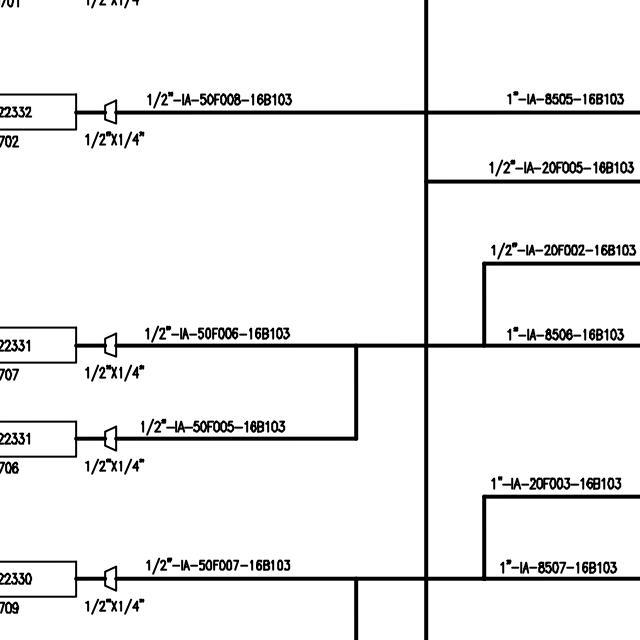SP: (101, 96, 121, 126), (102, 421, 119, 453), (102, 563, 119, 593), (100, 330, 118, 358)
